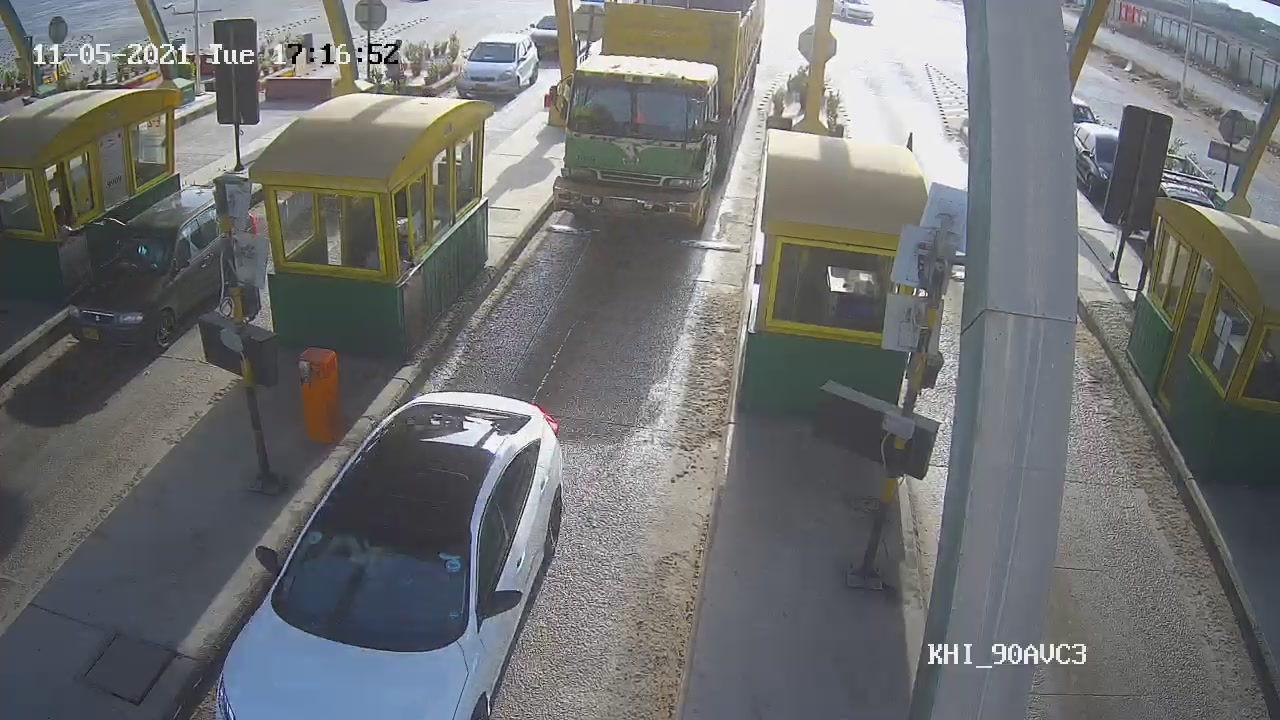F6: (550, 1, 764, 237)
